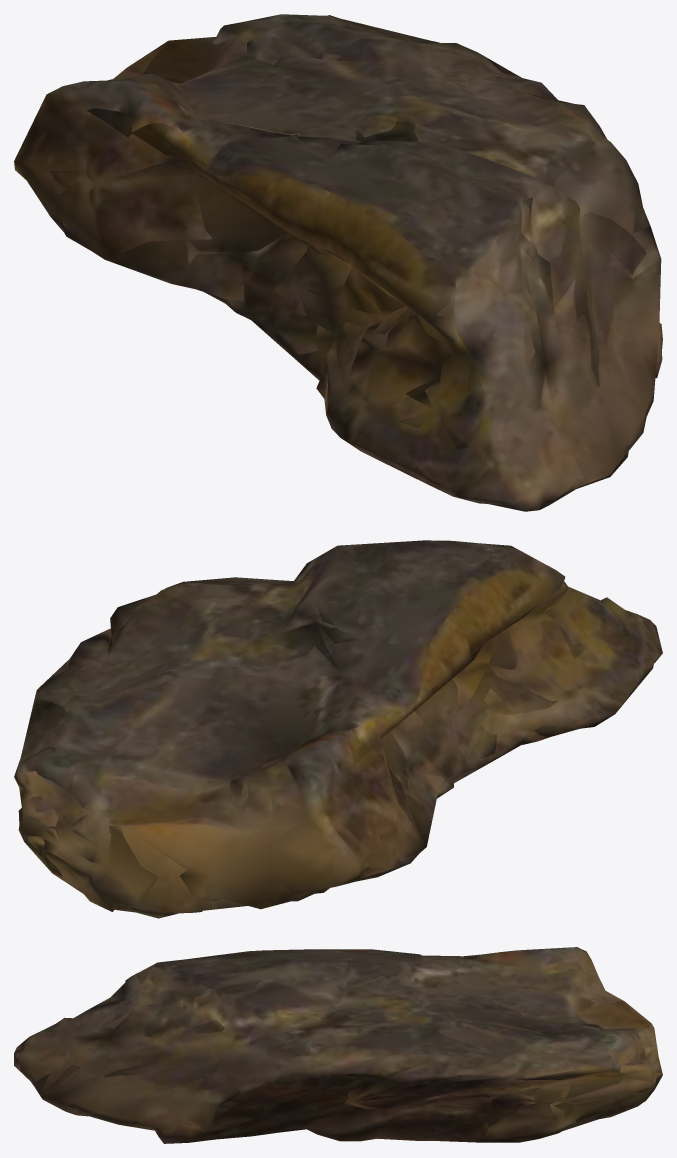
The model's file is rock_09.glb.
3 renders of one model, top to bottom at view 1: azimuth 30°, elevation 25°; view 2: azimuth 150°, elevation 25°; view 3: azimuth 270°, elevation 25°, orthographic. The views are drawn at different scales.
Parts seen in each view (by area): view 1: rock_09_LOD0, rock_09_LOD0_lo; view 2: rock_09_LOD0, rock_09_LOD0_lo; view 3: rock_09_LOD0, rock_09_LOD0_lo.
Boxes of the visible parts, x1=… form: rock_09_LOD0: x1=14, y1=14, x2=662, y2=511; rock_09_LOD0_lo: x1=14, y1=19, x2=662, y2=489; rock_09_LOD0: x1=14, y1=540, x2=662, y2=918; rock_09_LOD0_lo: x1=18, y1=540, x2=652, y2=913; rock_09_LOD0: x1=14, y1=947, x2=662, y2=1143; rock_09_LOD0_lo: x1=30, y1=949, x2=657, y2=1142.
Bounding box in the file's own units: 0.0739 × 0.0326 × 0.1446.
1 material, 1 textured.
